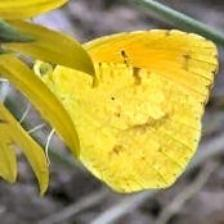butterfly: (35, 30, 219, 192)
